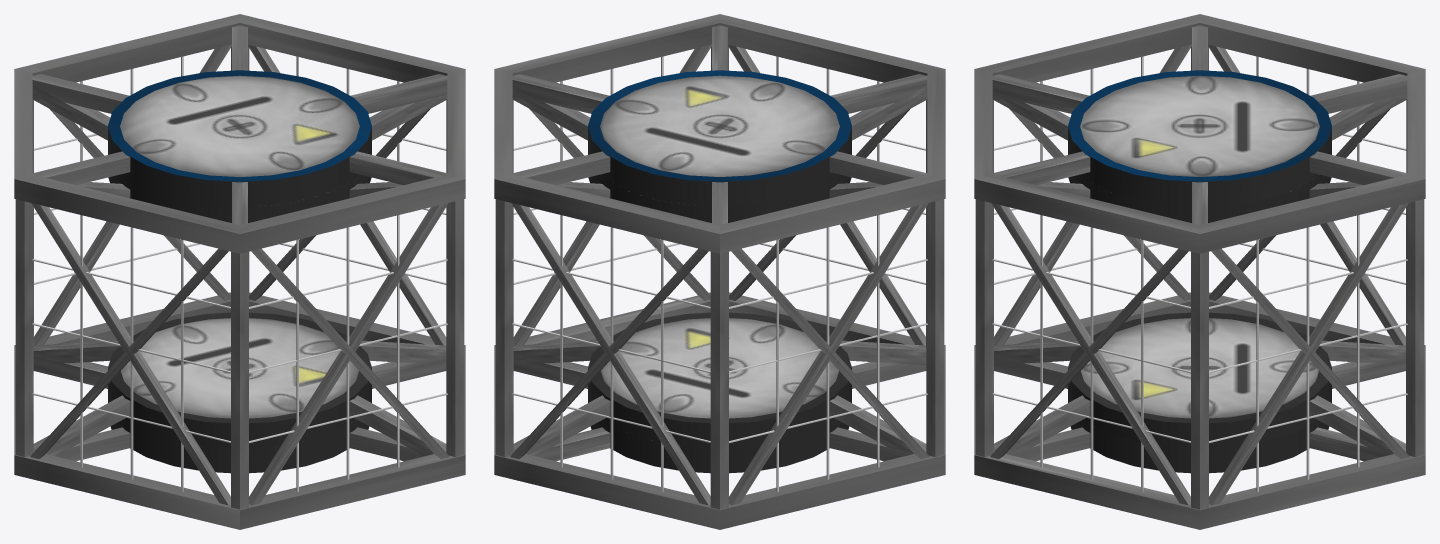
File: QuarterHexTruss.FBX
The picture shows the model from 3 angles, left to right: view 1: azimuth 30°, elevation 25°; view 2: azimuth 150°, elevation 25°; view 3: azimuth 270°, elevation 25°; orthographic projection.
Visible parts, largest first — view 1: EndCap007, EndBeam004, EndCap012, EndBeam005, EndBeam003, EndBeam008, EndBeam002, Pole003, Pole011, CrossBeam024, CrossBeam019, Pole012 (+27 smaller); view 2: EndCap007, EndBeam004, EndCap012, EndBeam003, EndBeam002, EndBeam008, Pole016, Pole003, Pole005, CrossBeam013, CrossBeam023, EndCap013 (+30 smaller); view 3: EndCap007, EndBeam004, EndCap012, EndBeam003, EndBeam005, EndBeam002, EndBeam008, Pole011, Pole005, CrossBeam016, CrossBeam015, Pole006 (+29 smaller).
Part boxes in pixels (x1,y1,x2,y2): EndCap007: (108, 70, 371, 206); EndBeam004: (14, 14, 465, 253); EndCap012: (108, 312, 371, 448); EndBeam005: (14, 15, 465, 249); EndBeam003: (14, 292, 465, 529); EndBeam008: (14, 302, 465, 529); EndBeam002: (14, 23, 465, 253); Pole003: (15, 199, 33, 456); Pole011: (446, 199, 464, 456); CrossBeam024: (31, 203, 230, 505); CrossBeam019: (249, 203, 448, 505); Pole012: (231, 251, 248, 509); EndCap007: (588, 70, 851, 206); EndBeam004: (494, 14, 945, 252); EndCap012: (588, 312, 851, 448); EndBeam003: (494, 292, 945, 529); EndBeam002: (494, 24, 945, 253); EndBeam008: (496, 302, 943, 529); Pole016: (710, 251, 728, 509); Pole003: (926, 199, 944, 456); Pole005: (495, 199, 513, 456); CrossBeam013: (511, 203, 710, 505); CrossBeam023: (729, 203, 928, 505); EndCap013: (588, 394, 851, 473); EndCap007: (1068, 70, 1331, 206); EndBeam004: (974, 14, 1425, 253); EndCap012: (1068, 312, 1331, 448); EndBeam003: (974, 292, 1425, 529); EndBeam005: (974, 15, 1405, 248); EndBeam002: (974, 25, 1425, 253); EndBeam008: (974, 302, 1382, 529); Pole011: (975, 199, 993, 456); Pole005: (1406, 199, 1424, 456); CrossBeam016: (991, 203, 1190, 505); CrossBeam015: (1209, 203, 1408, 505); Pole006: (1191, 251, 1208, 509).
Size of what is drawn, in the model's own units: 2.46 by 2.13 by 1.54.
